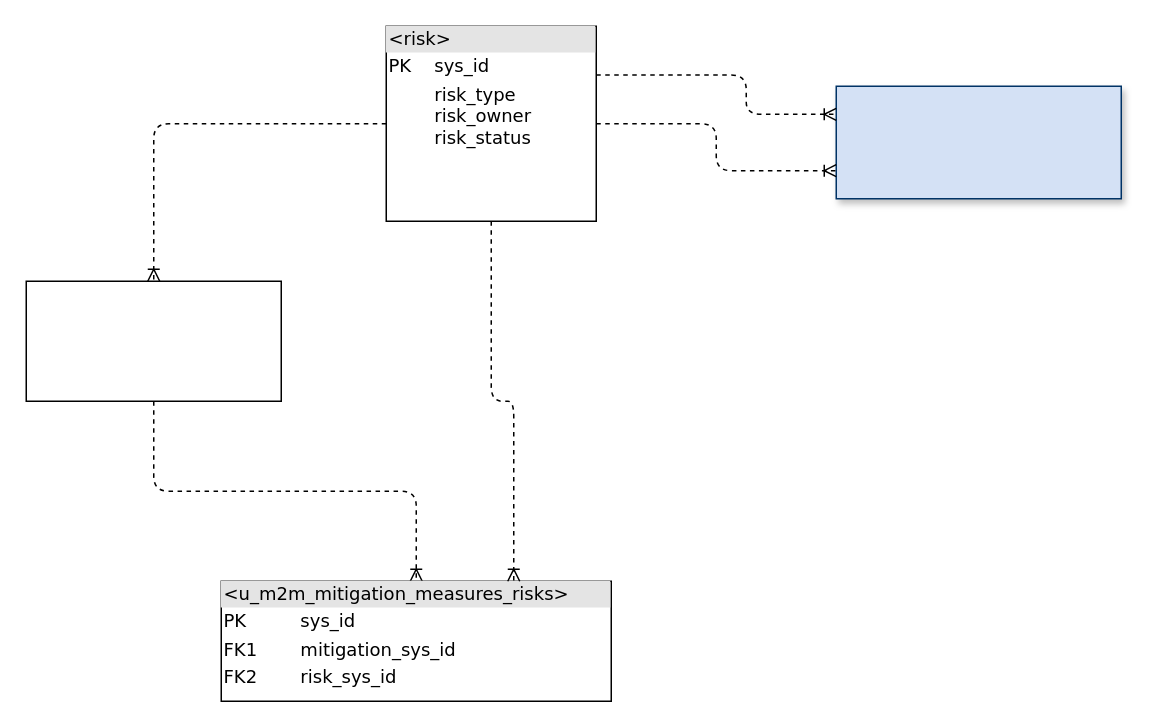
This 1157x728 diagram has some shape labels left out. The centre of each missing label's shape, as x and y in pixels:
<u_mitigation> PK sys_id FK1 main_risk_sys_id: the point at 153,340
List column: u_related_risks risk_sys_id risk_sys_id: the point at 979,144
